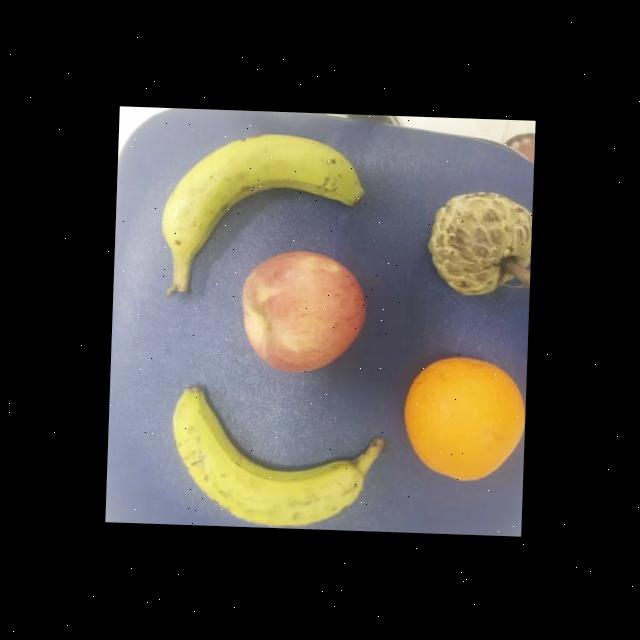Sakya fruit: (425, 185, 533, 302)
apple: (240, 248, 367, 378)
banana: (168, 380, 390, 530), (158, 128, 370, 264)
pear: (401, 354, 525, 488)
